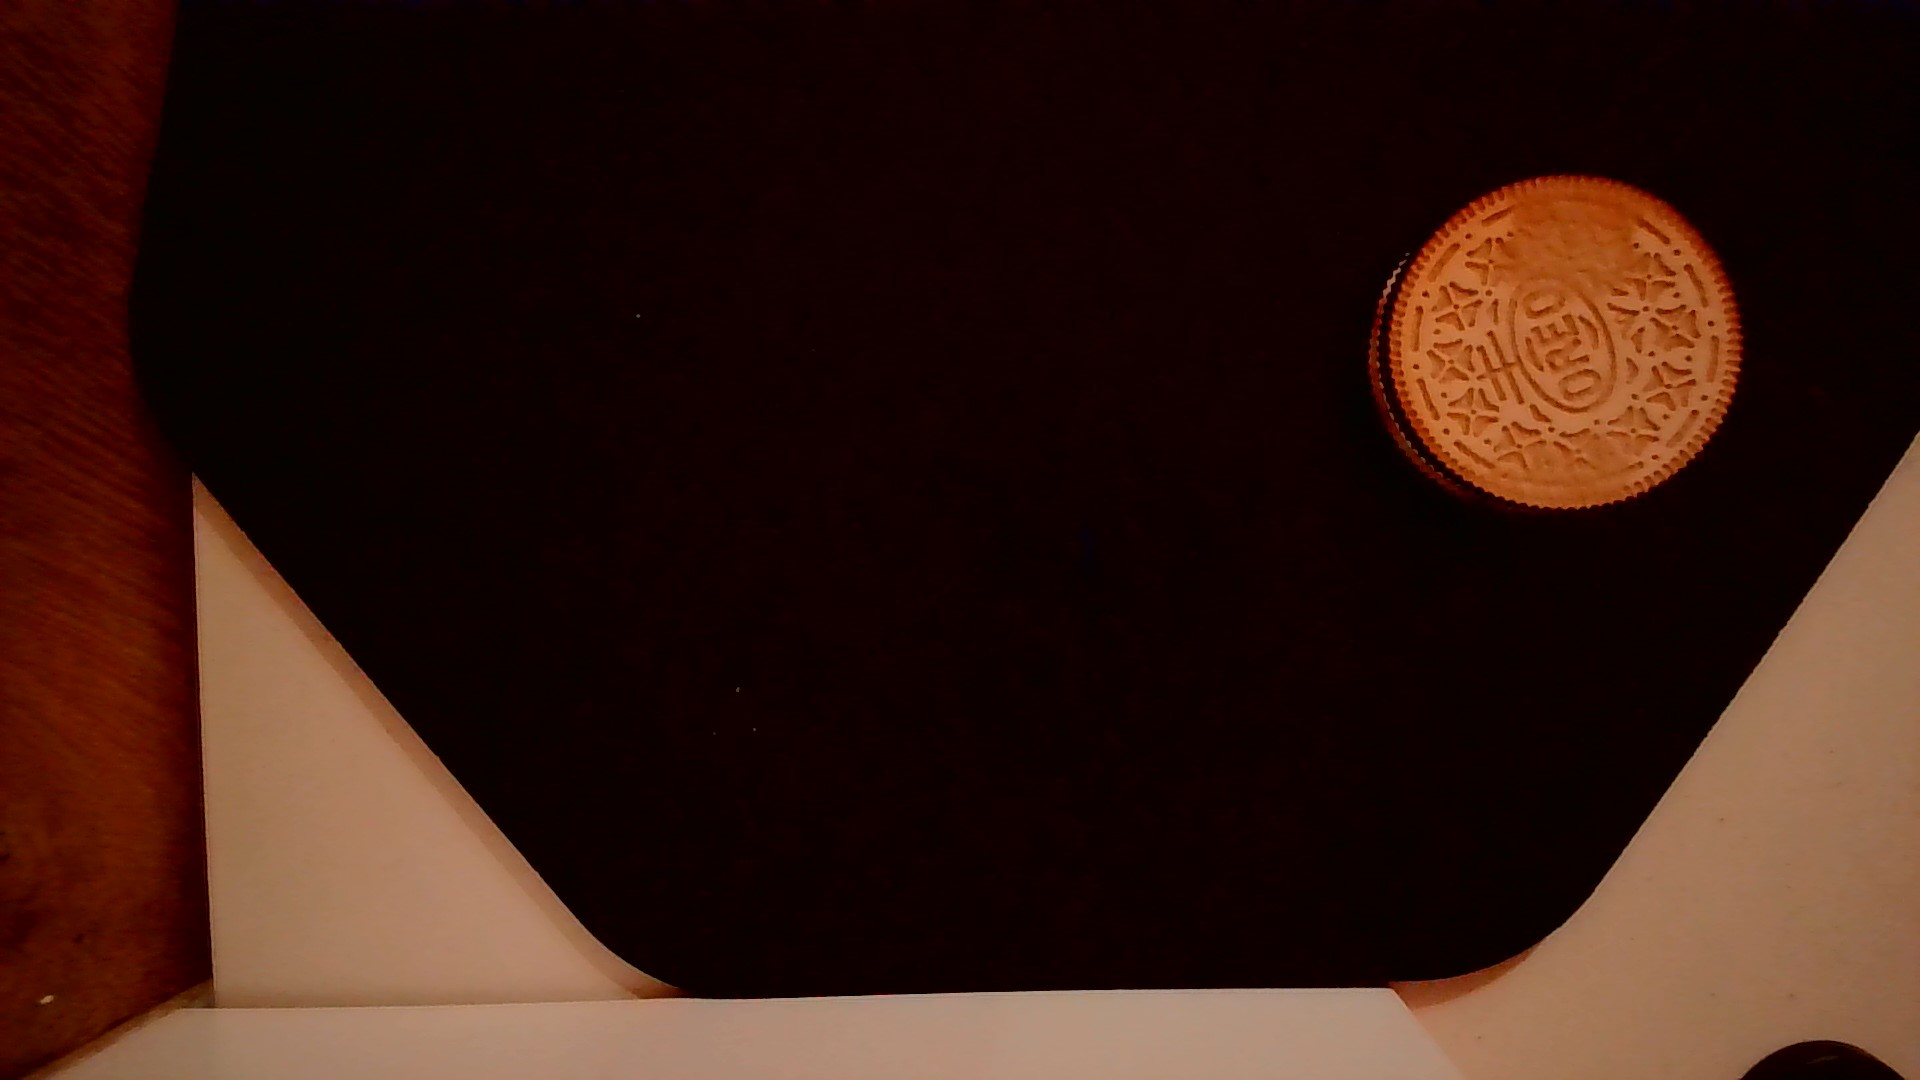Effacé: (1502, 171, 1635, 301), (1509, 438, 1640, 506)
Oréo: (1356, 170, 1749, 527)
